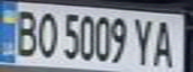0: (93, 11, 112, 63), (75, 11, 93, 62)
5: (57, 9, 81, 61)
9: (109, 12, 130, 64)
A: (148, 16, 181, 69)
B: (9, 6, 42, 58)
O: (33, 7, 60, 60)
Y: (130, 15, 157, 66)
